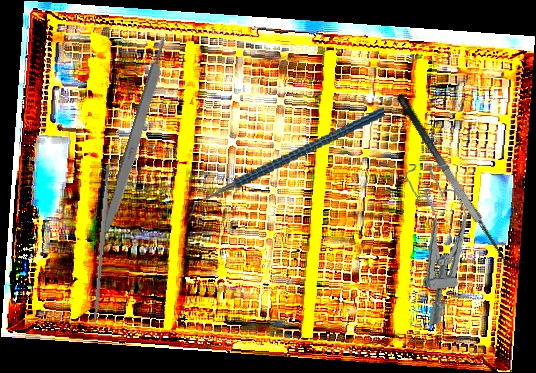Chopper: (177, 106, 395, 224)
Scalpel Handle: (98, 34, 174, 242), (91, 164, 113, 323)
Spatula Surgical: (393, 83, 526, 277)
Speculum: (403, 159, 476, 326)
